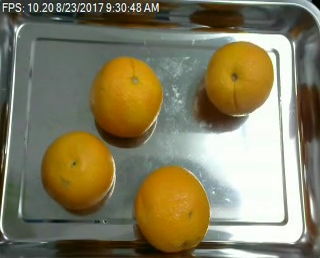Orange: (133, 166, 210, 253), (40, 132, 118, 212), (90, 56, 164, 137), (204, 41, 274, 117)
